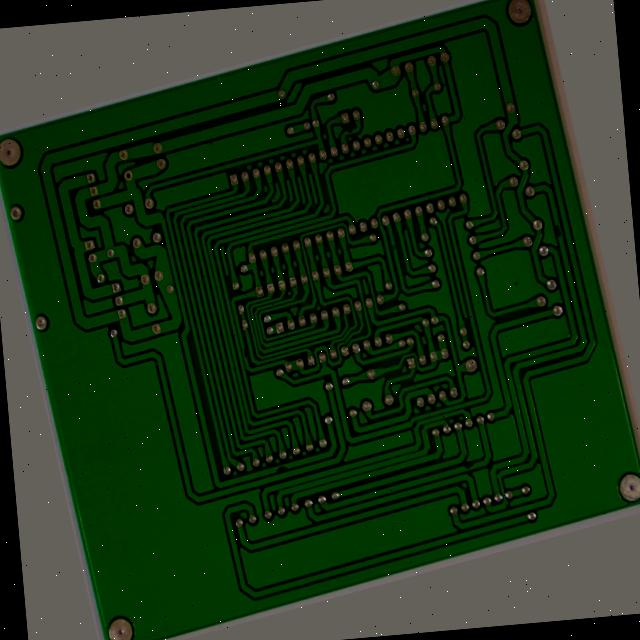mouse_bite: (590, 253, 602, 280), (454, 515, 475, 528), (246, 476, 265, 489), (226, 328, 236, 351), (371, 100, 386, 112)
